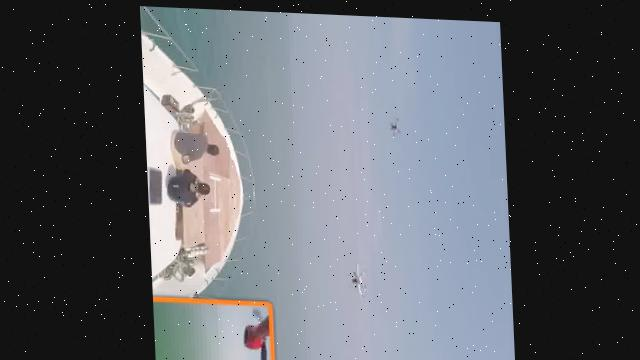drone: (341, 254, 369, 299), (385, 104, 407, 140)
